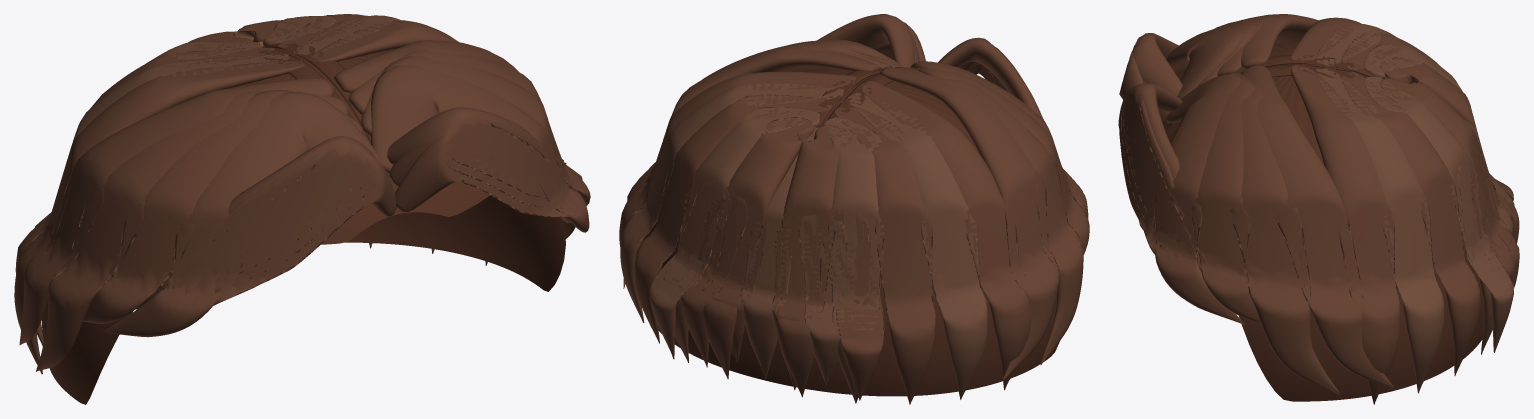
Rendered from Masculine-middle-part-bucket251-hair.glb.
3 views of the same model, side by side, from view 1: azimuth 30°, elevation 25°; view 2: azimuth 150°, elevation 25°; view 3: azimuth 270°, elevation 25° (orthographic). The views are drawn at different scales.
Visible parts, largest first — view 1: 226 hair / Hair / chestnut226.002, 226 hair / Hair / recessed roots251.002, 226 hair / Hair / main251.001, 226 hair / Hair / accent251.001, 226 hair / Hair / recessed roots251.003; view 2: 226 hair / Hair / main251.001, 226 hair / Hair / accent251.001, 226 hair / Hair / chestnut226.002, 226 hair / Hair / recessed roots251.002, 226 hair / Hair / recessed roots251.003; view 3: 226 hair / Hair / chestnut226.002, 226 hair / Hair / main251.001, 226 hair / Hair / accent251.001, 226 hair / Hair / recessed roots251.002, 226 hair / Hair / recessed roots251.003.
Boxes of the visible parts, x1,y1,x2,y2 form: 226 hair / Hair / chestnut226.002: (19,40,590,371); 226 hair / Hair / recessed roots251.002: (41,48,565,404); 226 hair / Hair / main251.001: (14,14,487,374); 226 hair / Hair / accent251.001: (15,15,434,346); 226 hair / Hair / recessed roots251.003: (258,42,390,176); 226 hair / Hair / main251.001: (619,71,1031,404); 226 hair / Hair / accent251.001: (620,82,987,403); 226 hair / Hair / chestnut226.002: (623,14,1089,380); 226 hair / Hair / recessed roots251.002: (644,68,1059,396); 226 hair / Hair / recessed roots251.003: (817,69,893,127); 226 hair / Hair / chestnut226.002: (1118,14,1395,395); 226 hair / Hair / main251.001: (1291,17,1519,404); 226 hair / Hair / accent251.001: (1316,23,1514,393); 226 hair / Hair / recessed roots251.002: (1163,42,1483,401); 226 hair / Hair / recessed roots251.003: (1169,55,1373,126).
Bounding box in the file's own units: 1.07 × 0.5895 × 0.8384.
